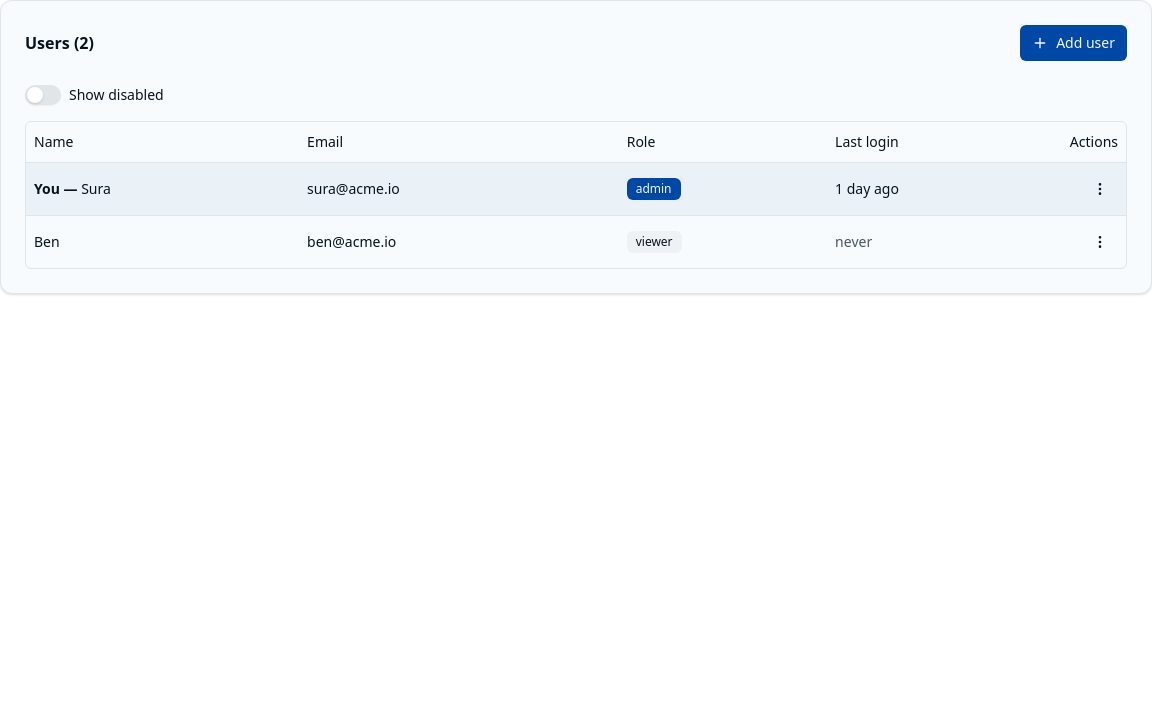
Test: UsersPage — destructive dialog verbatim copy (UI-SPEC) › Sign out everywhere dialog body matches UI-SPEC verbatim
The image size is (1152, 720).
Check: the text "Users (2)" is shown, box [25, 35, 94, 51]
Click the button named "Actions for Ben": (1100, 242) [1082, 224, 1118, 260]
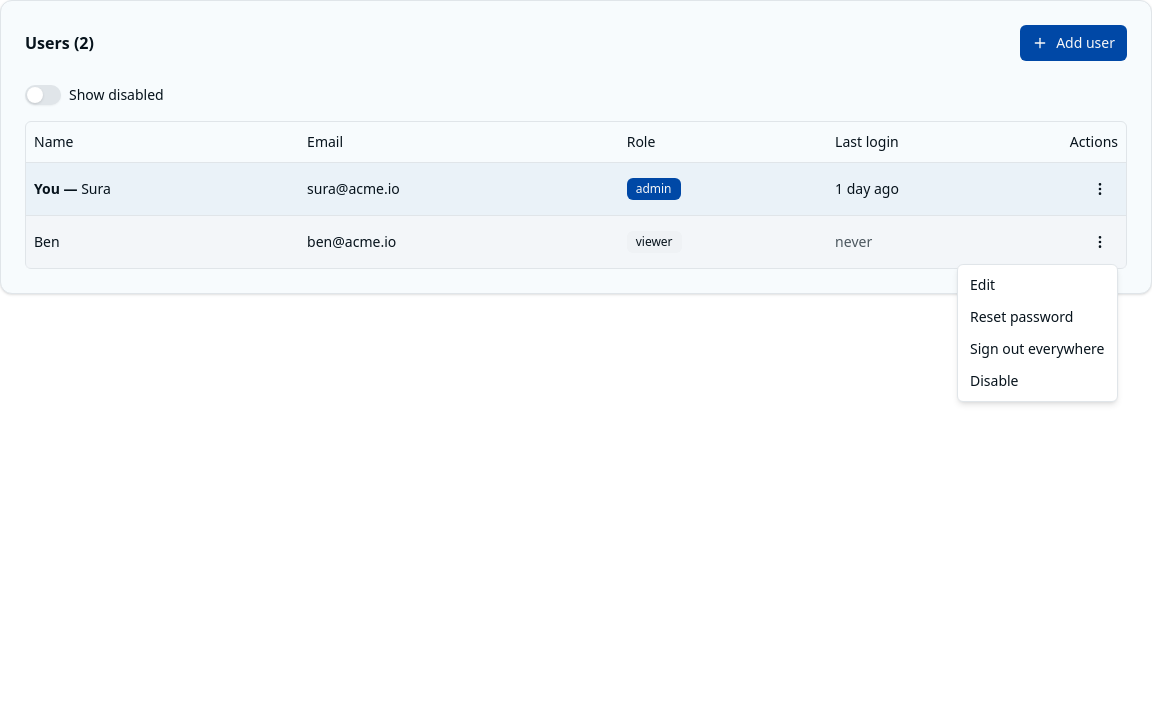
Click the menu item "Sign out everywhere": (1037, 348) [970, 339, 1104, 358]
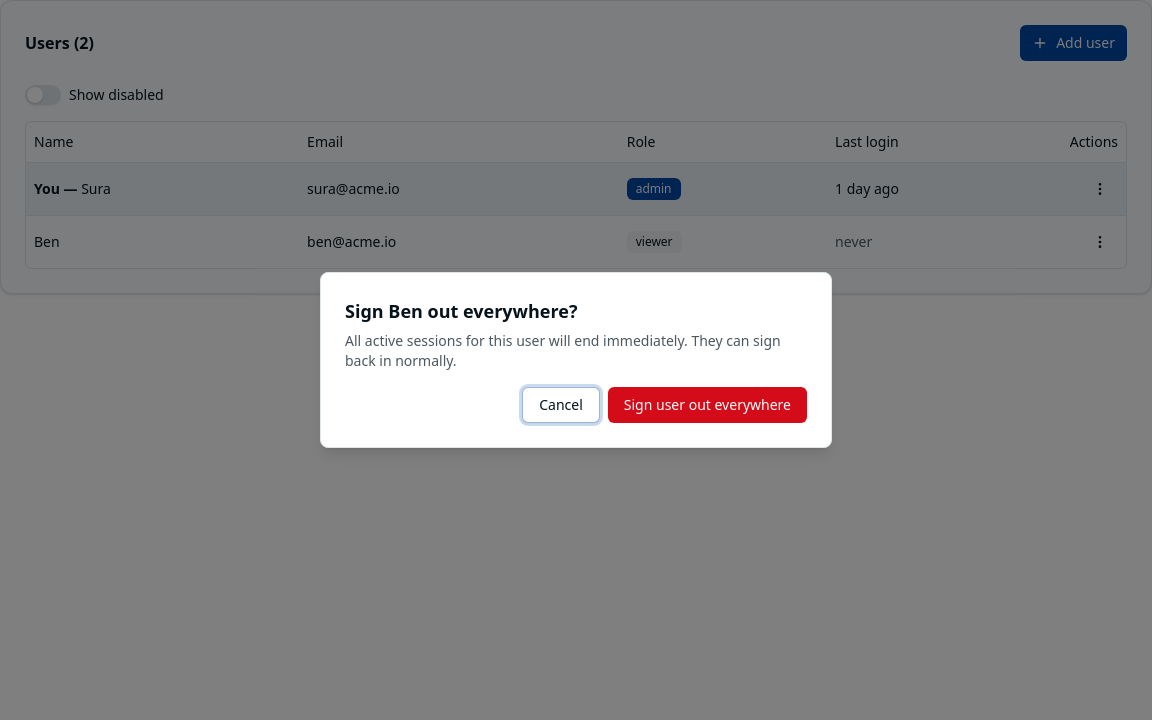
Check: the heading "Sign Ben out everywhere?" is shown, box [345, 297, 578, 325]
Check: the text "All active sessions for this user will end immediately. They can sign back in normally." is shown, box [345, 331, 781, 370]
Check: the button "Sign user out everywhere" is shown, box [608, 387, 807, 423]
